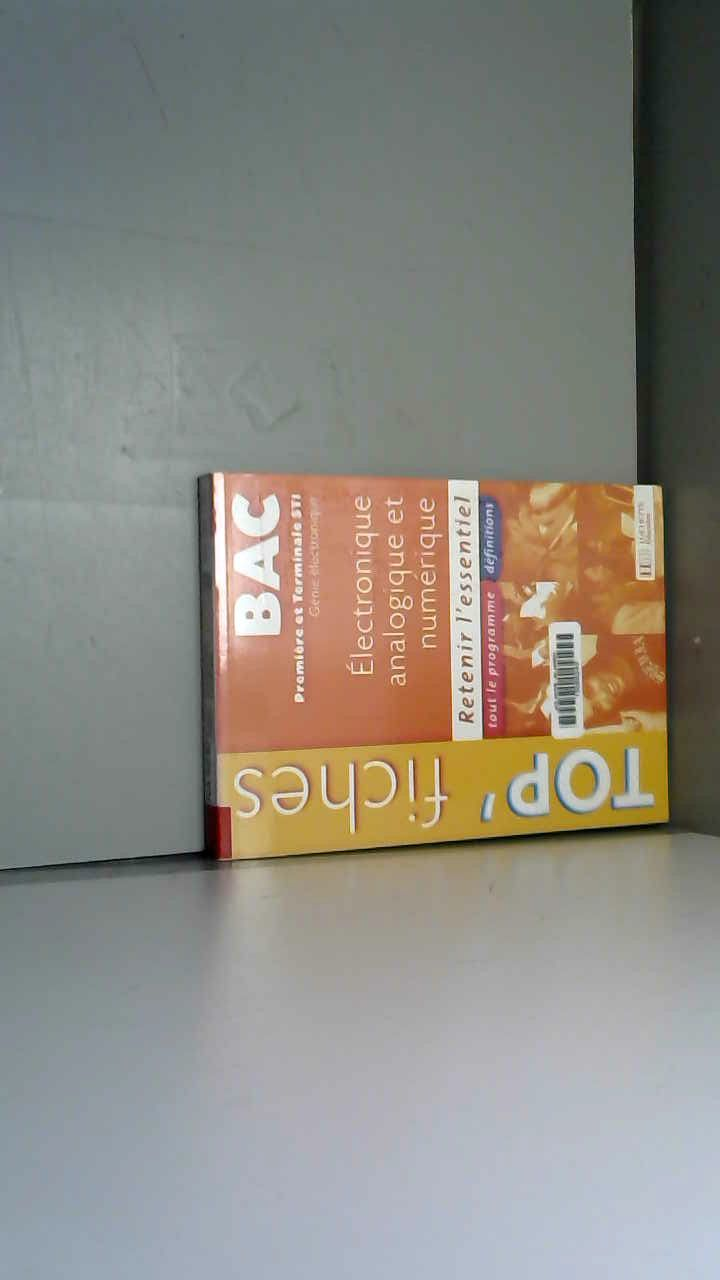book: (169, 426, 697, 893)
